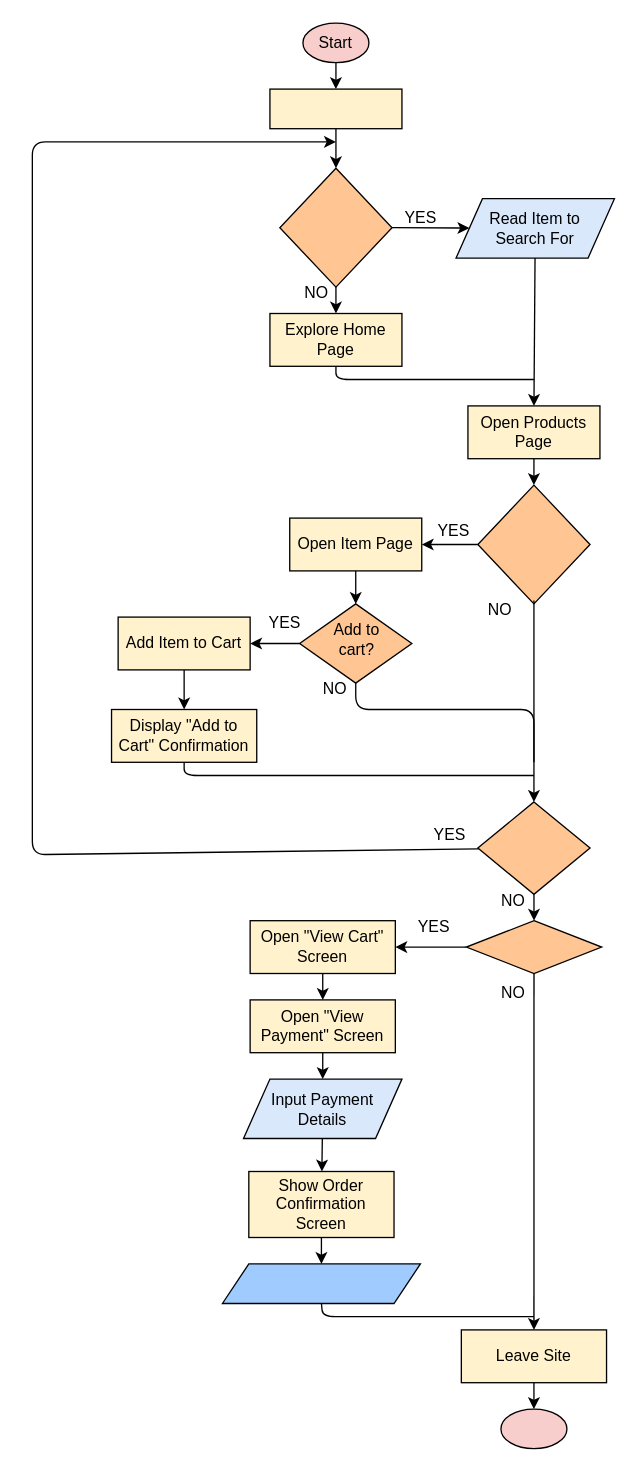
This 638x1472 diagram has some shape labels left out. The box of each missing label's shape, as (x1, y1, x2, y2) in pixels:
Check out?: (465, 919, 602, 974)
Continue shopping?: (477, 801, 590, 894)
End: (500, 1408, 567, 1449)
Enter Site: (269, 88, 402, 129)
Send Order Confirmation Email: (221, 1263, 420, 1304)
View specific product?: (477, 484, 590, 604)
Want to search for a product?: (279, 167, 392, 287)
